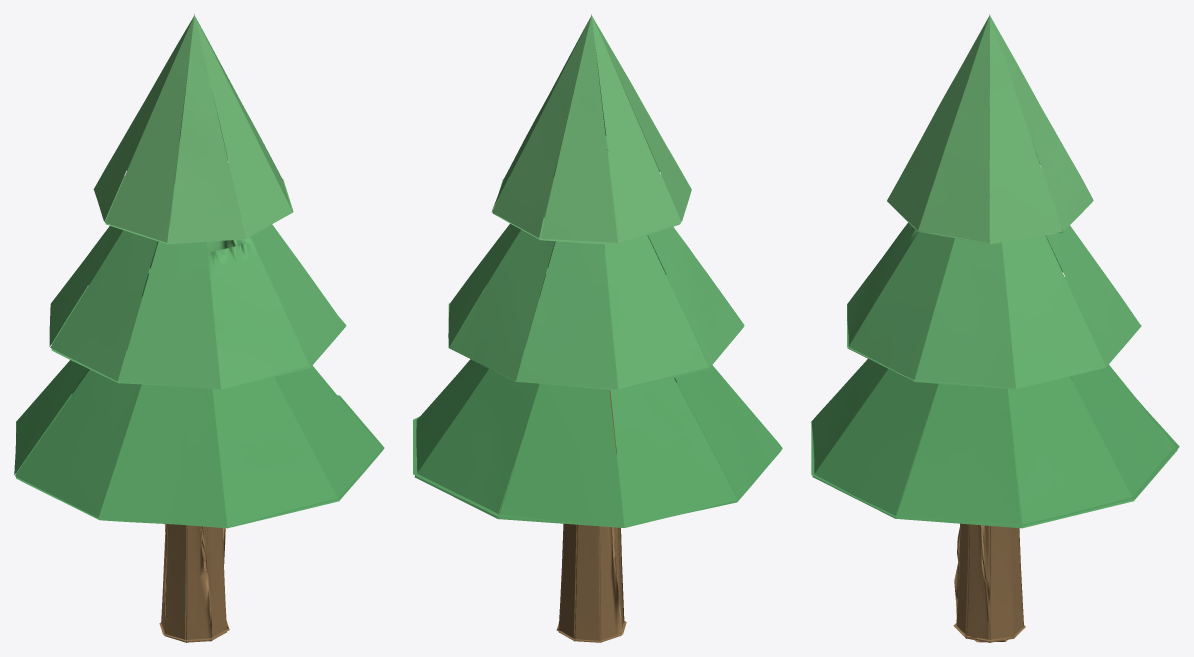
The model's file is tree.glb.
3 views of the same model, side by side, from view 1: azimuth 30°, elevation 25°; view 2: azimuth 150°, elevation 25°; view 3: azimuth 270°, elevation 25° (orthographic).
Visible parts, largest first — view 1: TreeTrunk; view 2: TreeTrunk; view 3: TreeTrunk.
Part boxes in pixels (x1=…): TreeTrunk: x1=14, y1=14, x2=384, y2=642; TreeTrunk: x1=413, y1=14, x2=782, y2=642; TreeTrunk: x1=811, y1=14, x2=1179, y2=642.
Size of the model in its own units: 2.27 by 4.12 by 2.23.
